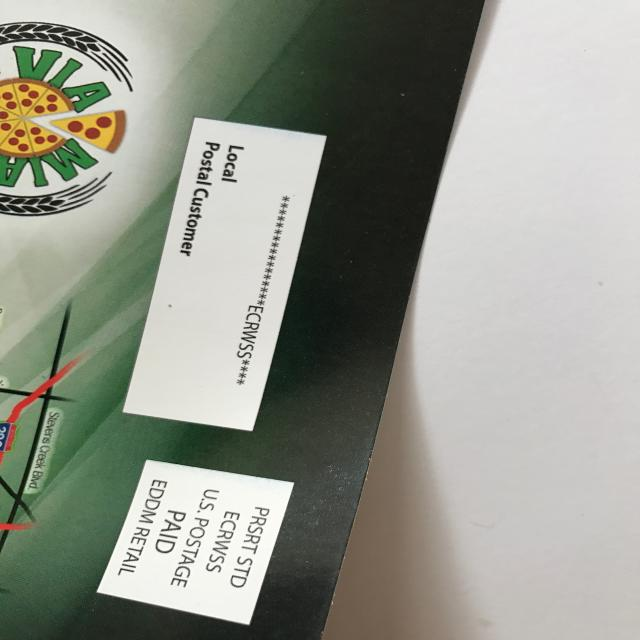paper: (0, 0, 483, 640)
